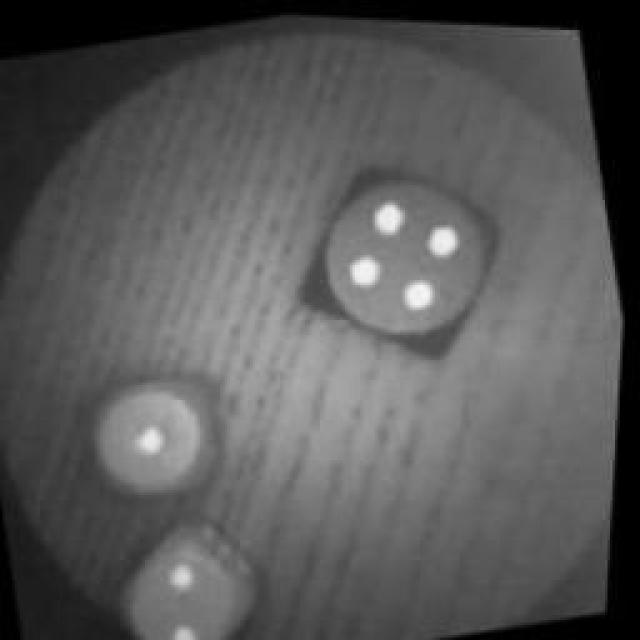dice_1: (82, 360, 238, 520)
dice_2: (108, 505, 278, 640)
dice_4: (279, 138, 519, 382)
